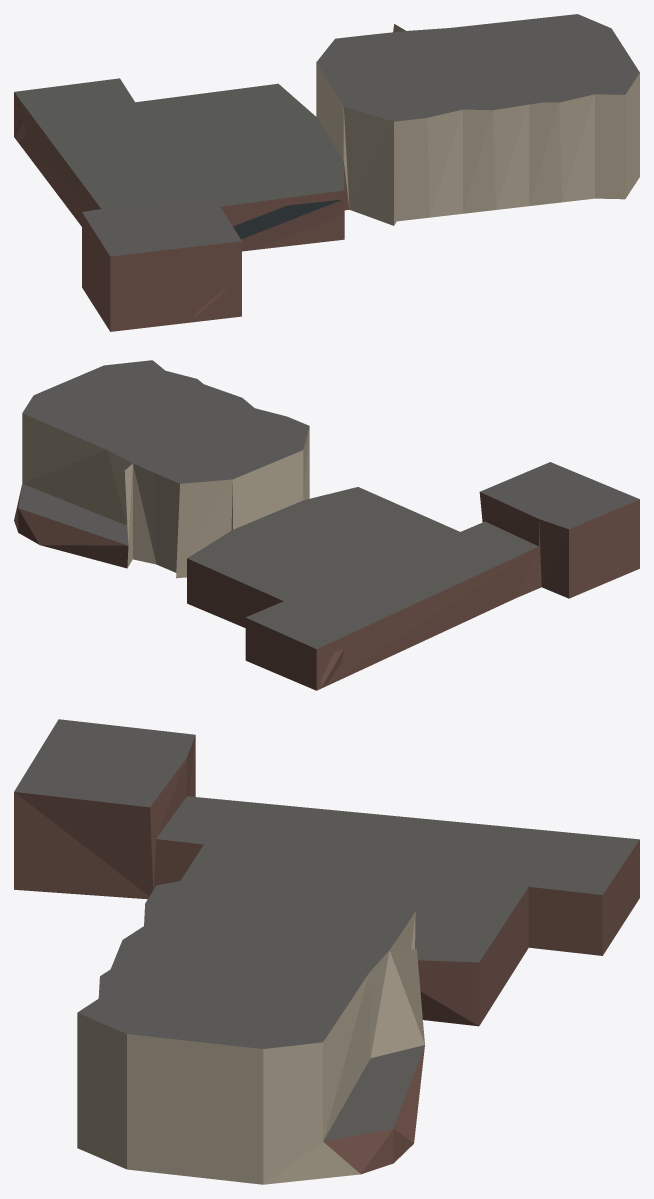
Rendered from de-kandelaar-vening-meineszlaan.lod2.glb.
The picture shows the model from 3 angles, top to bottom: view 1: azimuth 30°, elevation 25°; view 2: azimuth 150°, elevation 25°; view 3: azimuth 270°, elevation 25°; orthographic projection. The views are drawn at different scales.
Parts seen in each view (by area): view 1: lod2; view 2: lod2; view 3: lod2.
Boxes of the visible parts, <box> form: lod2: <box>14,14,639,331</box>; lod2: <box>14,360,639,690</box>; lod2: <box>14,719,639,1184</box>.
Size of the model in its own units: 48.91 by 8.42 by 35.2.
